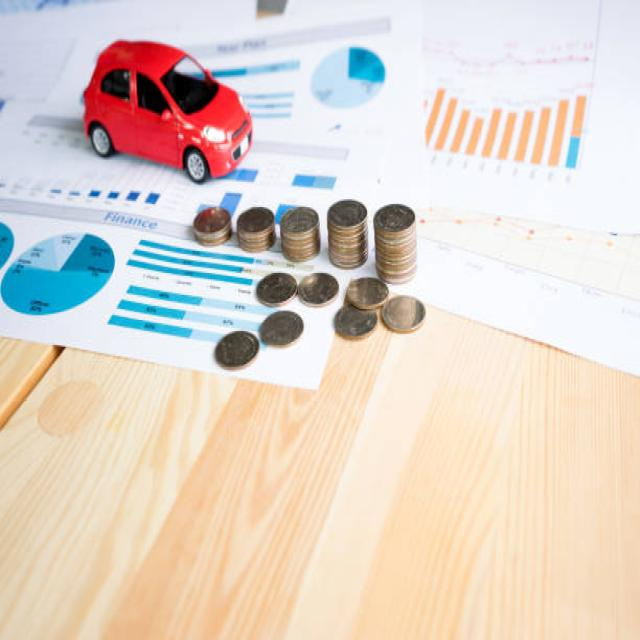Car: (81, 38, 253, 182)
